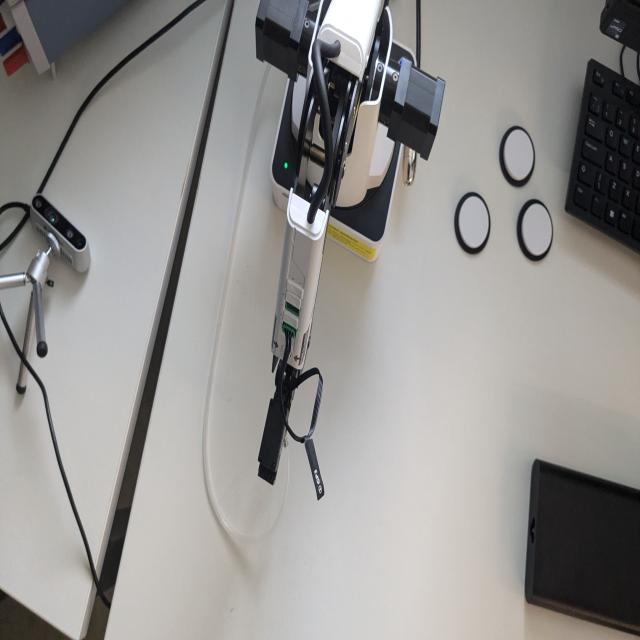Robot-end-effector-HF8z: (254, 395, 292, 488)
